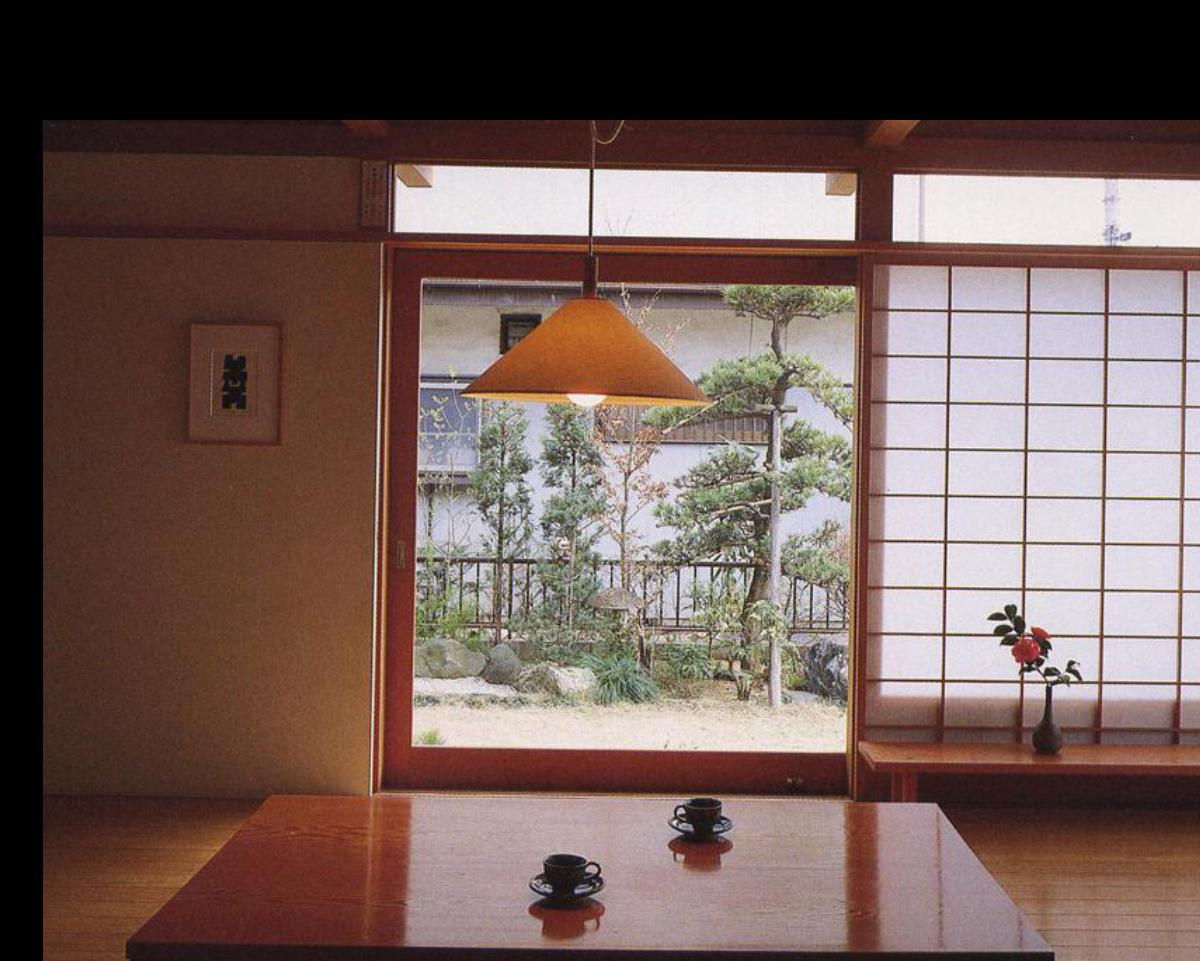Puerta: (396, 280, 847, 785)
